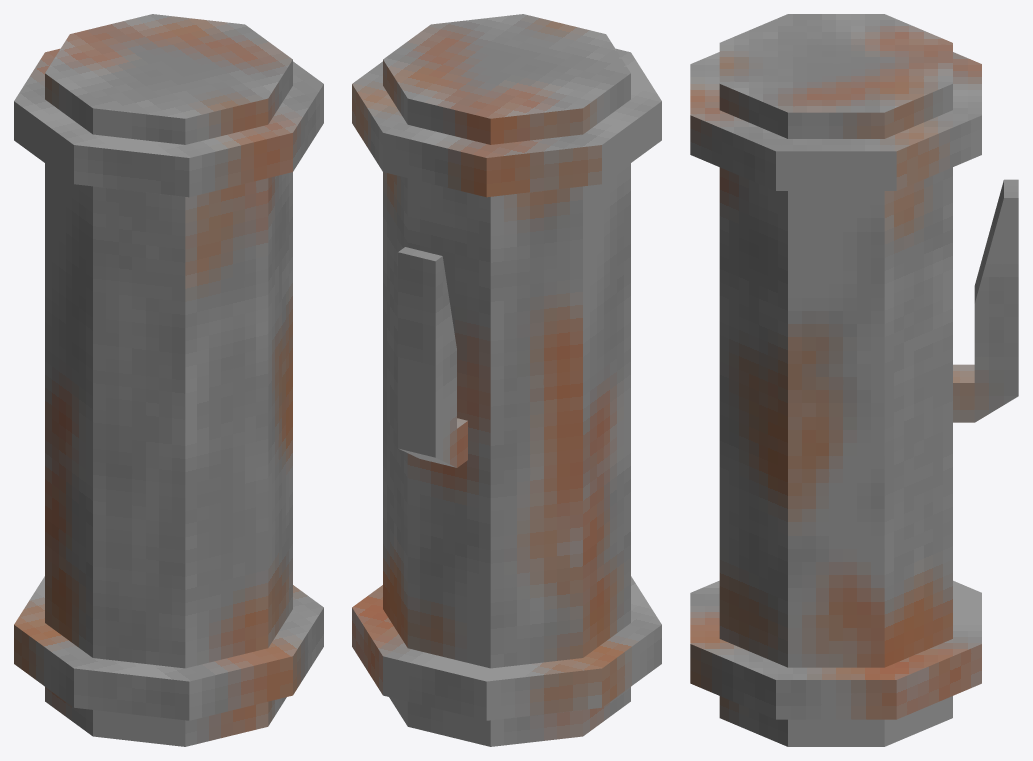
The model's file is pipe_lever.gltf.
3 renders of one model, left to right at view 1: azimuth 30°, elevation 25°; view 2: azimuth 150°, elevation 25°; view 3: azimuth 270°, elevation 25°, orthographic.
Parts seen in each view (by area): view 1: cylinder (×3); view 2: cylinder (×3), cuboid; view 3: cylinder (×3), cuboid.
Boxes of the visible parts, x1=… form: cylinder (×3): x1=14, y1=14, x2=323, y2=746; cylinder (×3): x1=352, y1=14, x2=661, y2=746; cuboid: x1=398, y1=247, x2=467, y2=467; cylinder (×3): x1=690, y1=14, x2=981, y2=746; cuboid: x1=953, y1=179, x2=1018, y2=422.
Bounding box in the file's own units: 1.25 × 3 × 1.41.
Materials: 1 (1 with a texture image).
